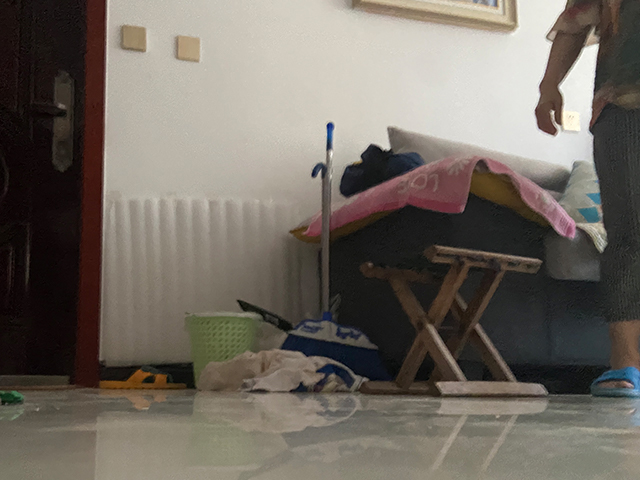slippers: (97, 363, 189, 391)
sofa: (286, 125, 608, 388)
stool: (356, 242, 551, 399)
trashcan: (183, 310, 265, 393)
